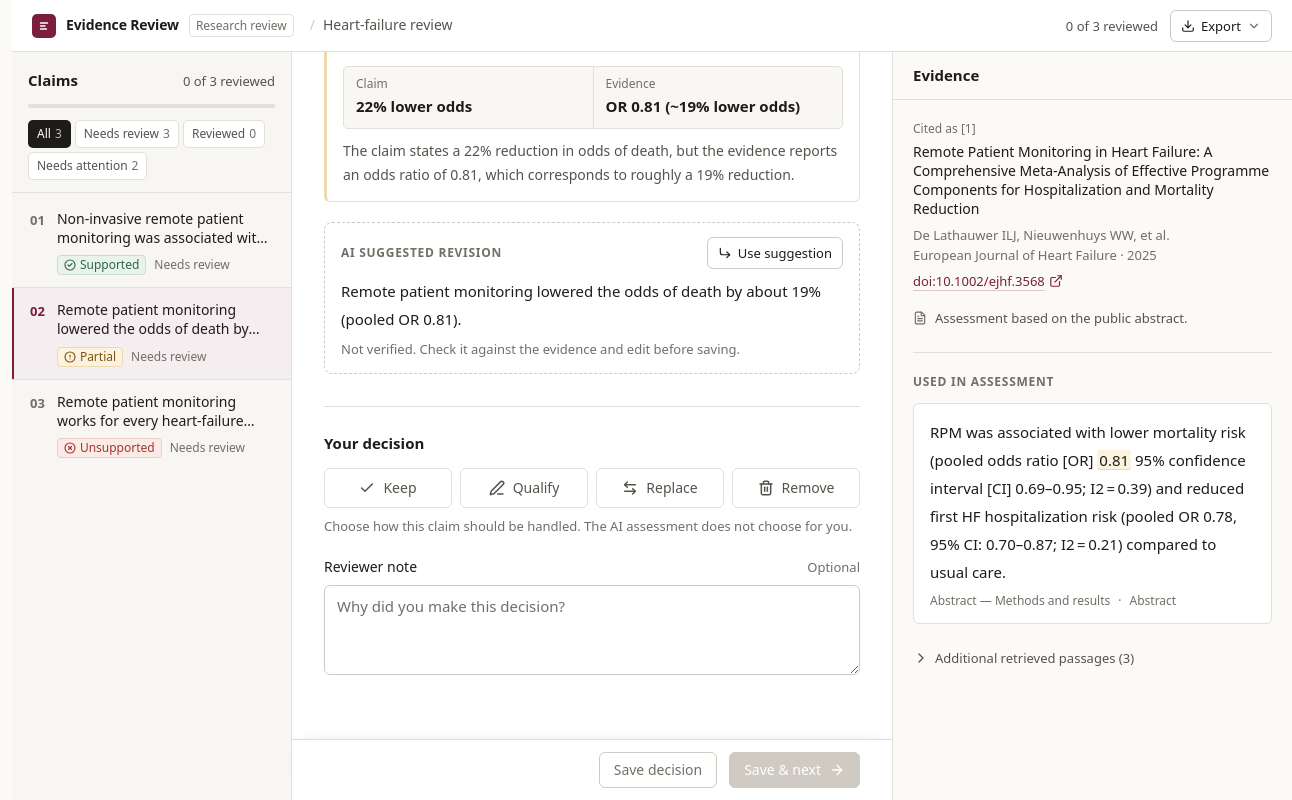
Scenario: Review workspace — decisions › Replace requires a revised claim; Qualify makes it optional; Keep hides it
(page scrolled)
Click the radio button labelled "Replace" at (660, 488), box [596,468,724,508]
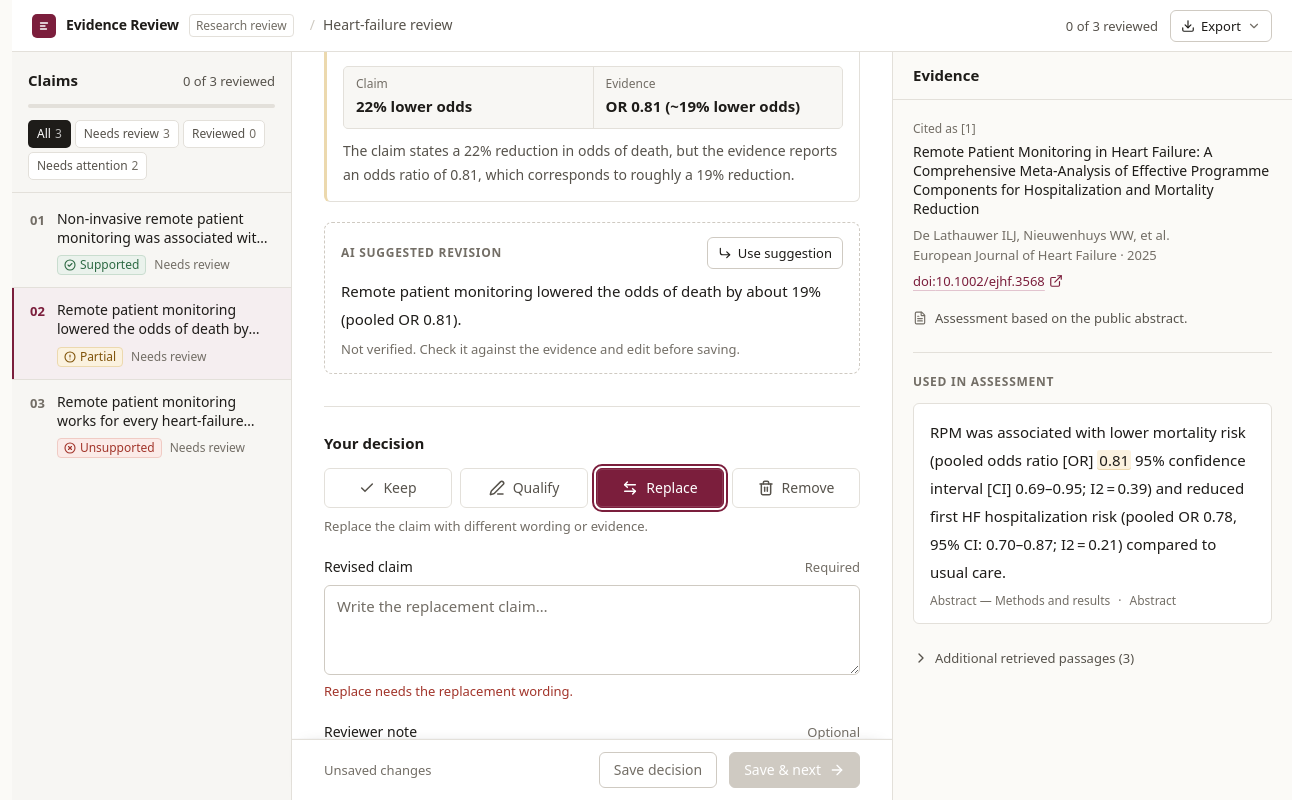
Check: the button "Save decision" is disabled, box [599,752,717,788]
Check: the text "Replace needs the replacement wording." is shown, box [324,682,573,700]
Click the radio button labelled "Qualify" at (524, 488), box [460,468,588,508]
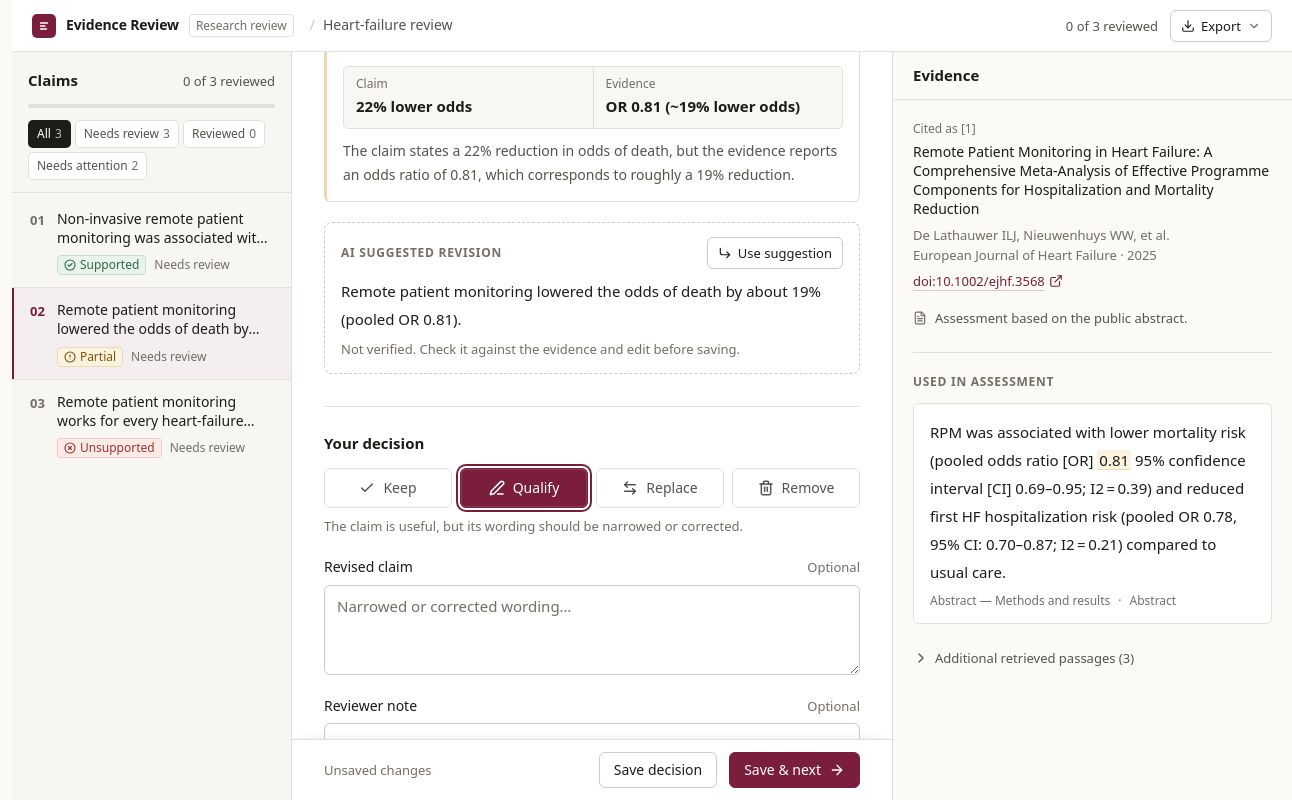
Check: the button "Save decision" is enabled, box [599,752,717,788]
Click the radio button labelled "Keep" at (388, 488), box [324,468,452,508]
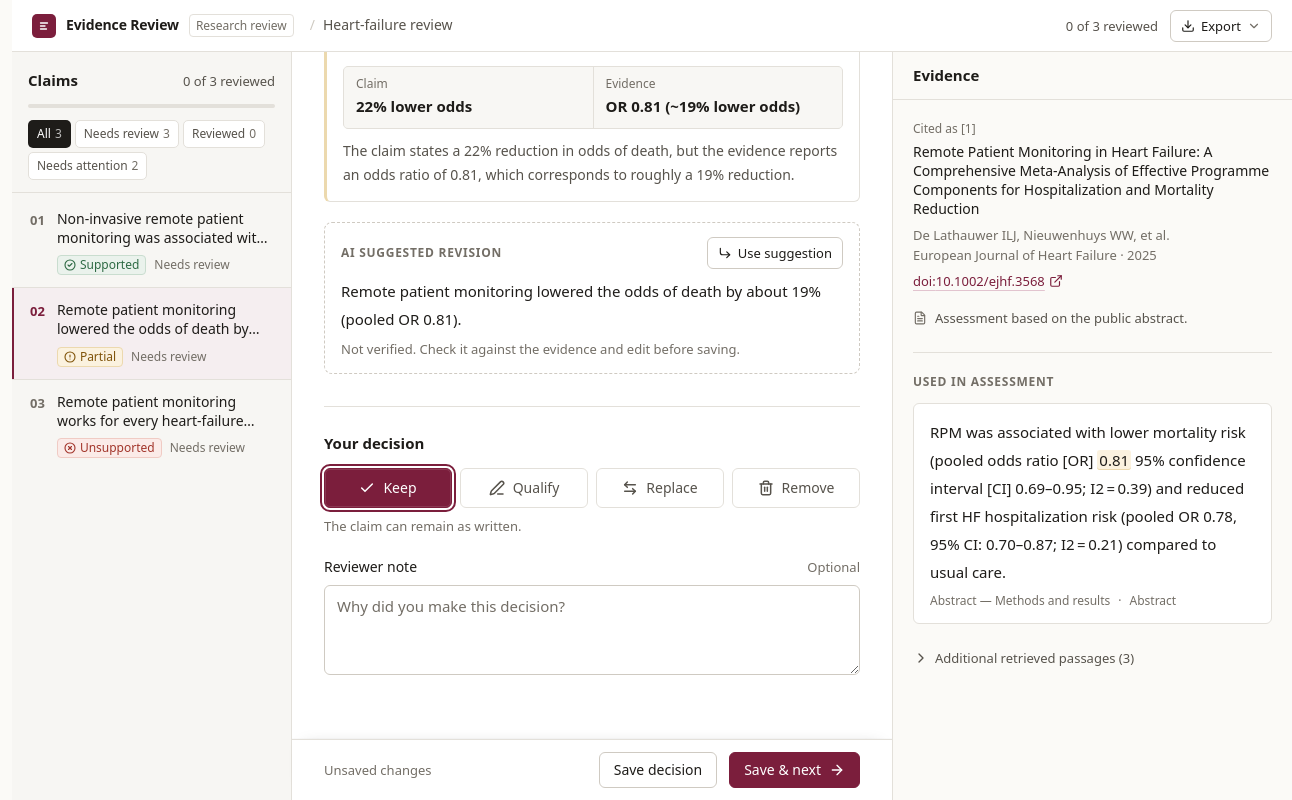
Check: the label labelled "Revised claim" is gone
